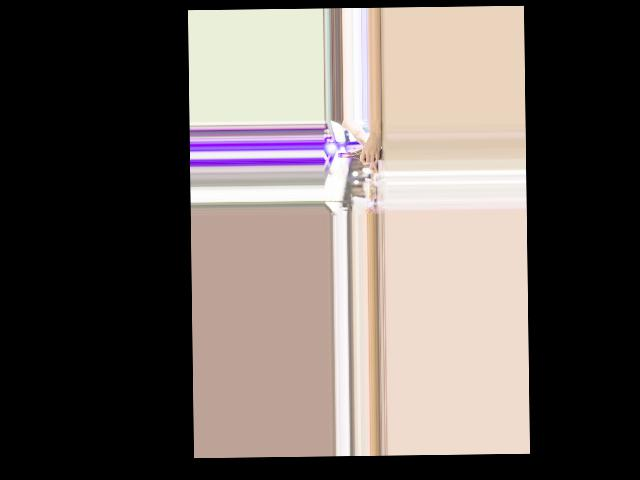beer: (338, 149, 381, 160)
